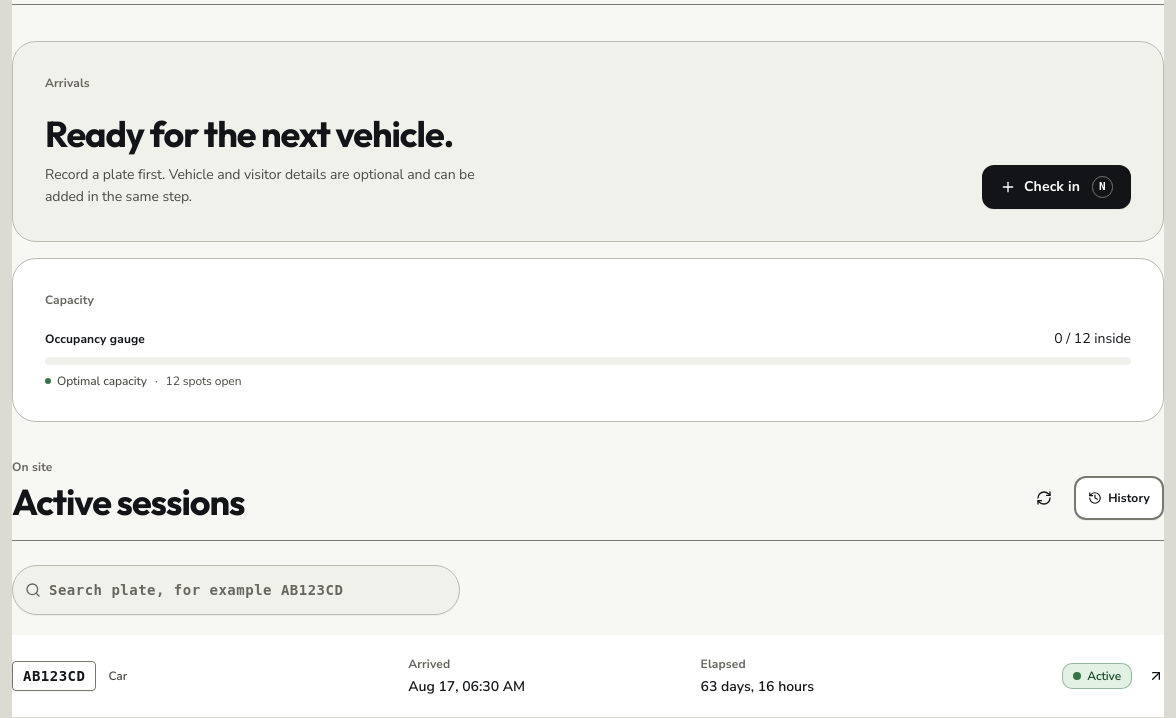
Test: parking operations › keeps stale active-session data visible after a refresh failure
(page scrolled)
Expected: the link with aria-label "Open session for AB123CD" is shown, [12,635,1164,717]
Click the button named "Refresh active stays" at (1044, 498), box [1022,476,1066,520]
(page scrolled)
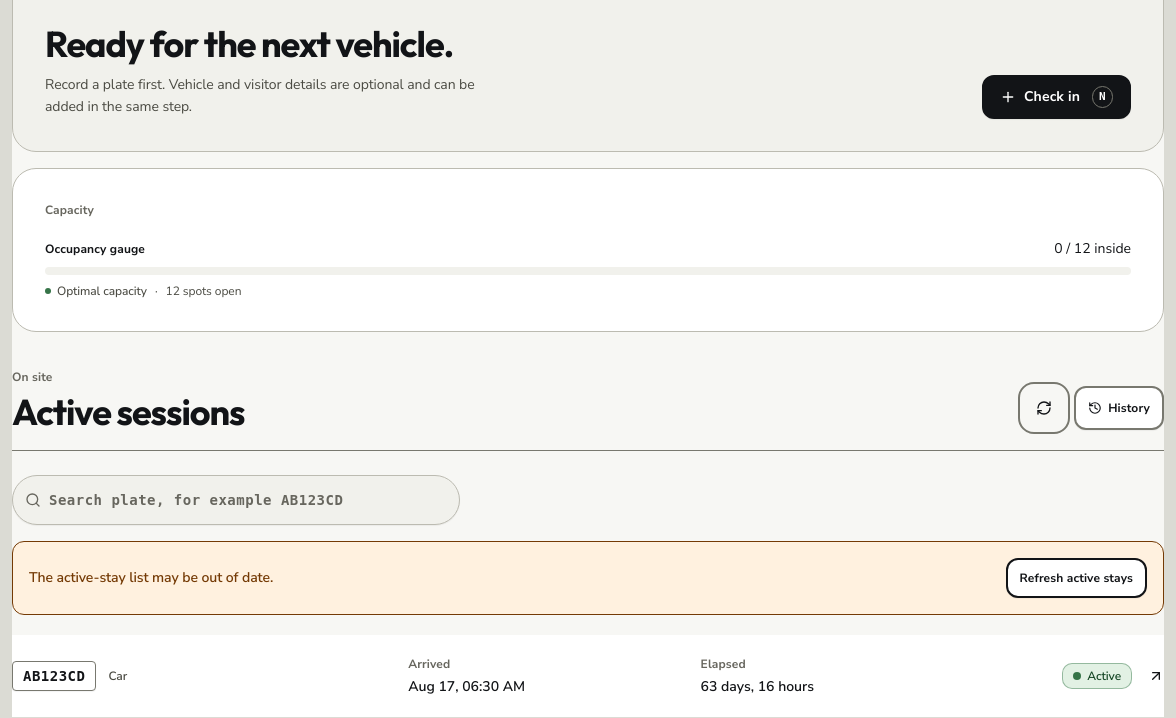
Expected: the link with aria-label "Open session for AB123CD" is shown, [12,635,1164,717]
Expected: the text "The active-stay list may be out of date." is shown, [29,568,273,588]
